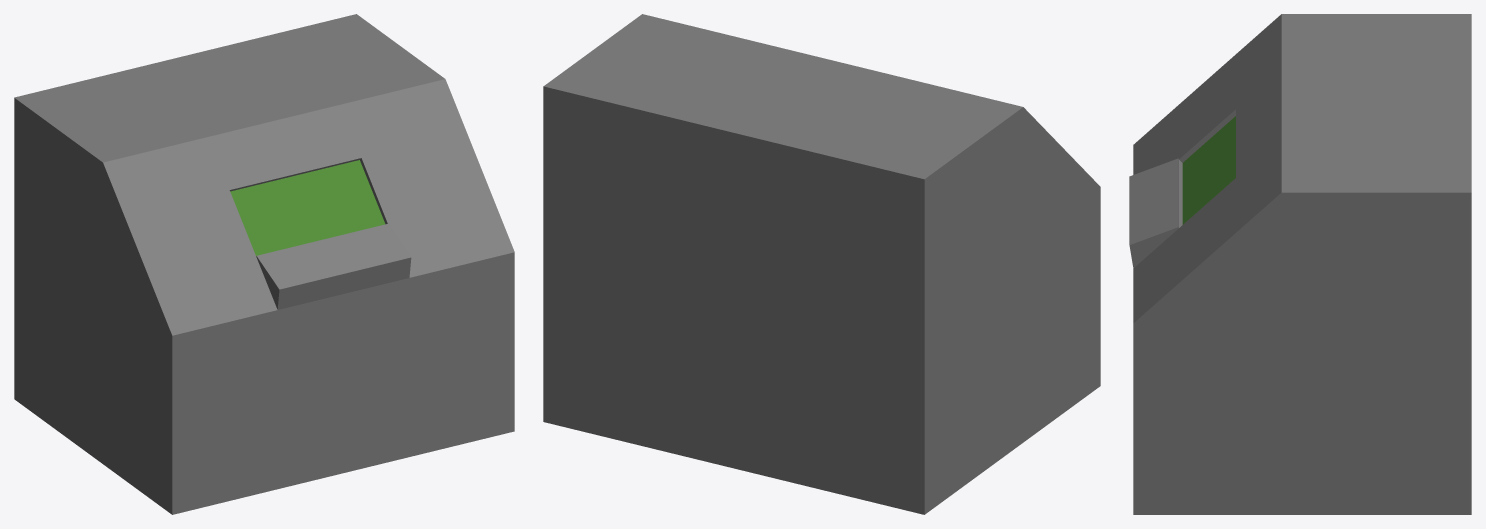
3 views of the same model, side by side, from view 1: azimuth 30°, elevation 25°; view 2: azimuth 150°, elevation 25°; view 3: azimuth 270°, elevation 25° (orthographic). The views are drawn at different scales.
Parts seen in each view (by area): view 1: Box002; view 2: Box002; view 3: Box002.
Boxes of the visible parts, bbox=[...] form: Box002: bbox=[14, 14, 514, 514]; Box002: bbox=[543, 14, 1100, 514]; Box002: bbox=[1129, 14, 1471, 514].
Size of the model in its own units: 100 by 84.16 by 80.93.
